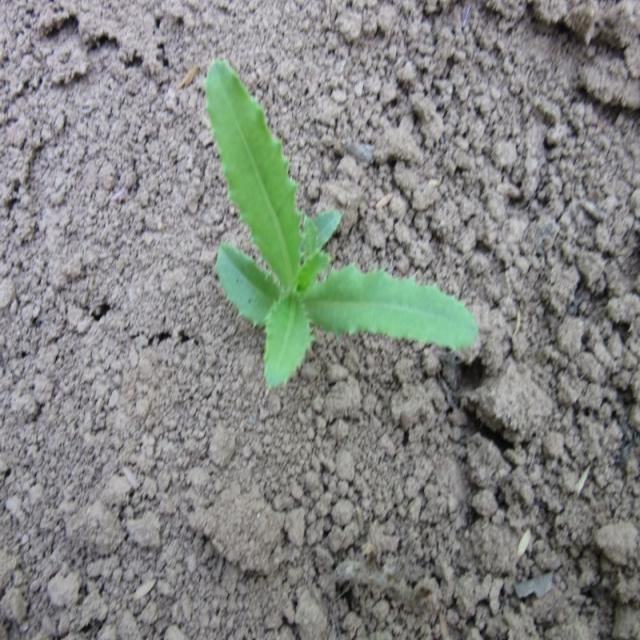field_thistle: (174, 56, 466, 403)
